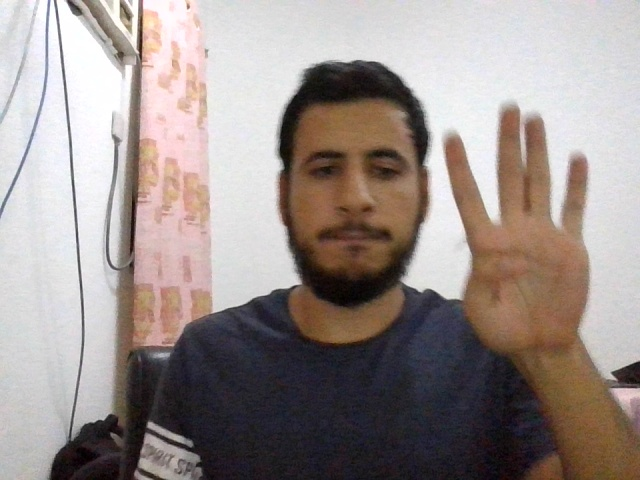Five: (441, 100, 593, 358)
